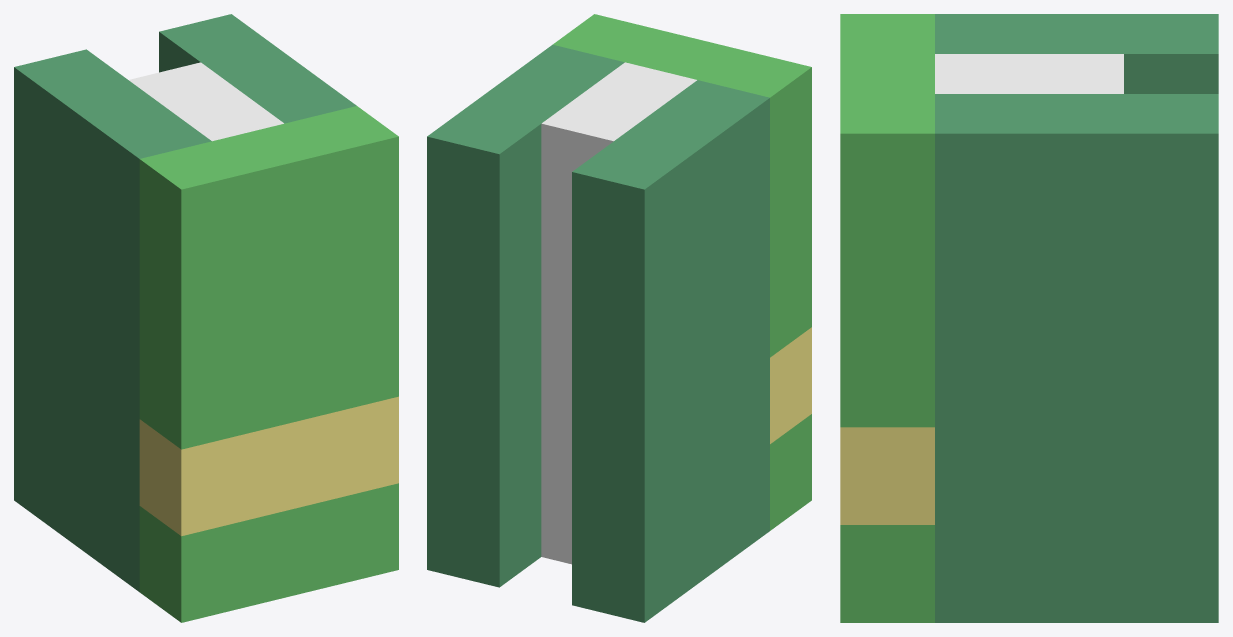
The model's file is book_green.obj.
3 renders of one model, left to right at view 1: azimuth 30°, elevation 25°; view 2: azimuth 150°, elevation 25°; view 3: azimuth 270°, elevation 25°, orthographic. The views are drawn at different scales.
Parts seen in each view (by area): view 1: book_green.001; view 2: book_green.001; view 3: book_green.001.
Boxes of the visible parts, box(x1,y1,x2,y2) form: book_green.001: box(14, 14, 398, 622); book_green.001: box(427, 14, 811, 622); book_green.001: box(840, 14, 1218, 622).
Size of the model in its own units: 3.52 by 6.71 by 4.7.
Materials: 1 (1 with a texture image).
